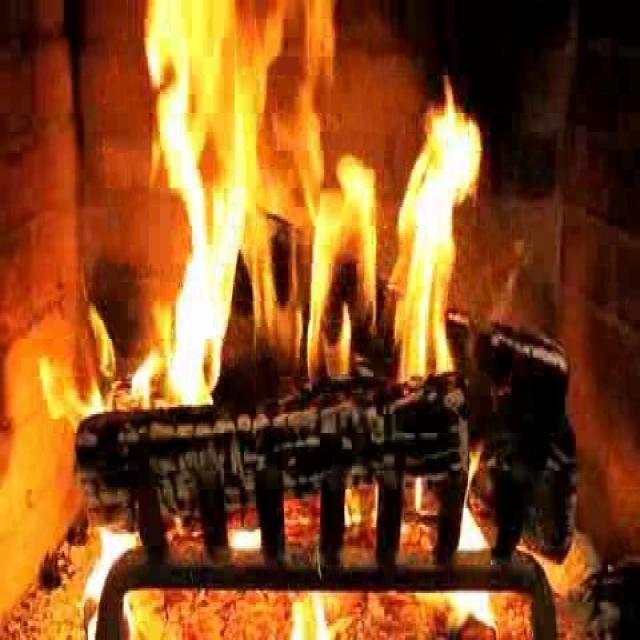Fire: (123, 0, 506, 466)
